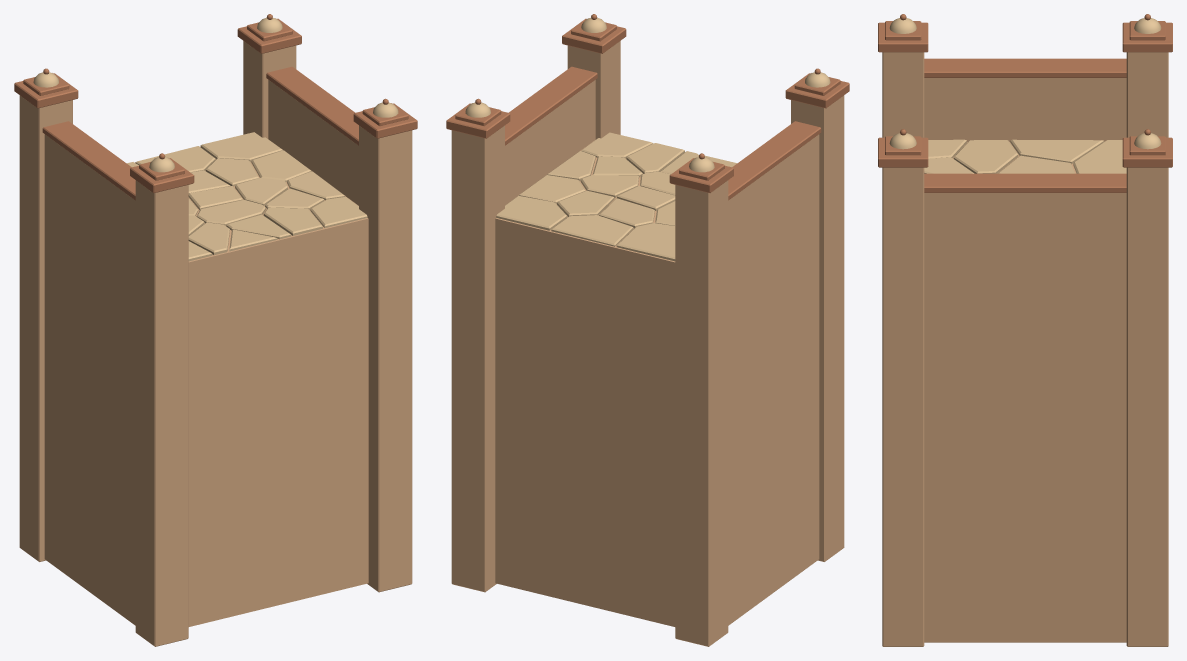
The model's file is terrace_stairs_landing.fbx.
3 renders of one model, left to right at view 1: azimuth 30°, elevation 25°; view 2: azimuth 150°, elevation 25°; view 3: azimuth 270°, elevation 25°, orthographic. The views are drawn at different scales.
Parts seen in each view (by area): view 1: Terrace_Stairs_Landing; view 2: Terrace_Stairs_Landing; view 3: Terrace_Stairs_Landing.
Boxes of the visible parts, bbox=[...] form: Terrace_Stairs_Landing: bbox=[14, 14, 417, 646]; Terrace_Stairs_Landing: bbox=[446, 14, 849, 646]; Terrace_Stairs_Landing: bbox=[878, 14, 1172, 646].
Bounding box in the file's own units: 462 × 804 × 422.
